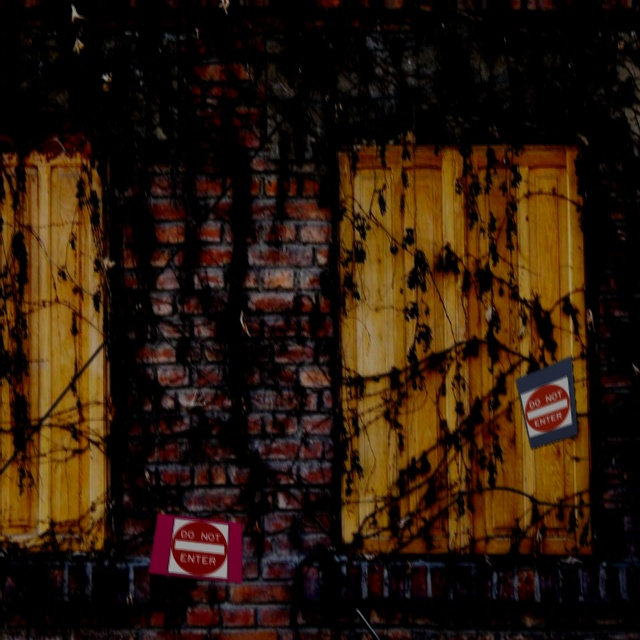DO_NOT_ENTER: (167, 516, 229, 578), (519, 374, 576, 437)
